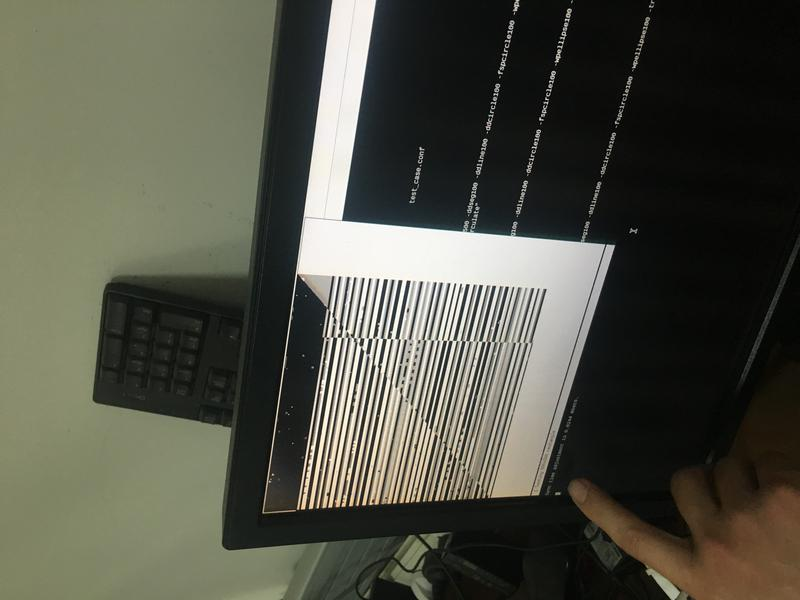xrandr_pass: (258, 202, 621, 519)
